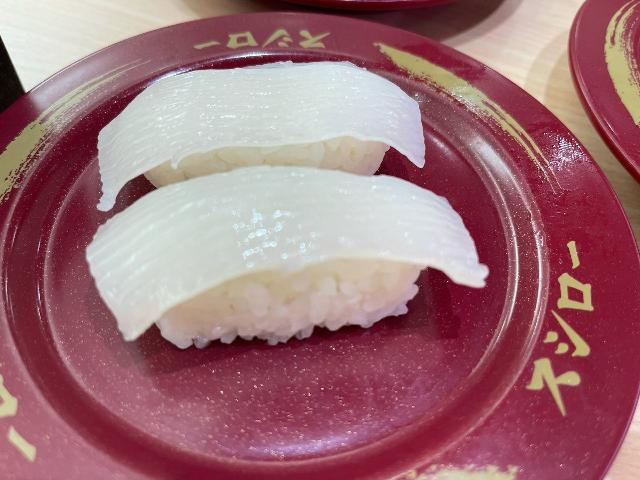janred: (18, 14, 640, 480), (545, 0, 640, 214), (190, 0, 537, 46)
